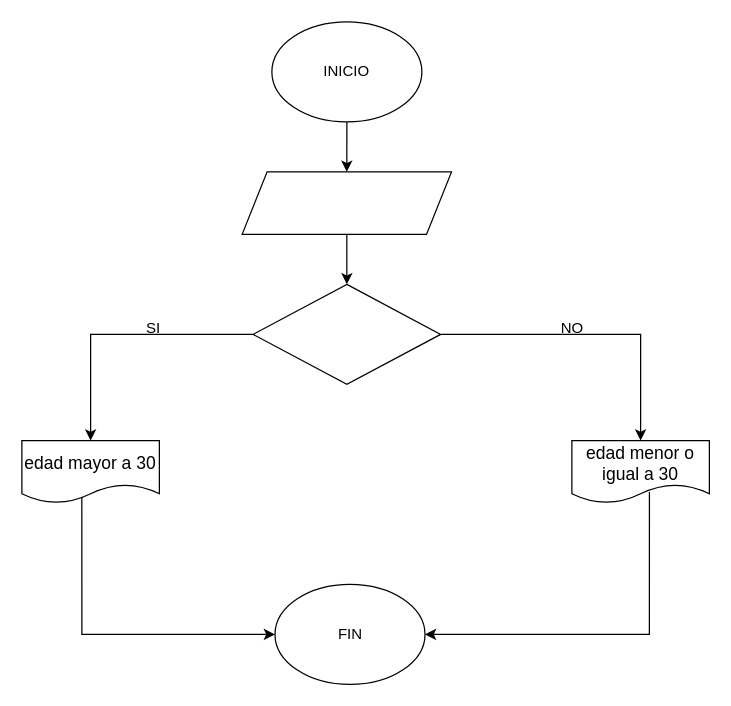
Image size: 731x706. Some labels were removed from this diagram. Here are the shapes that lost their labels. From the top down, the centre of each, then its label:
At point (346, 202): "tupla = (25, 32, 28)".
At point (346, 333): "tupla[1] > 30".
